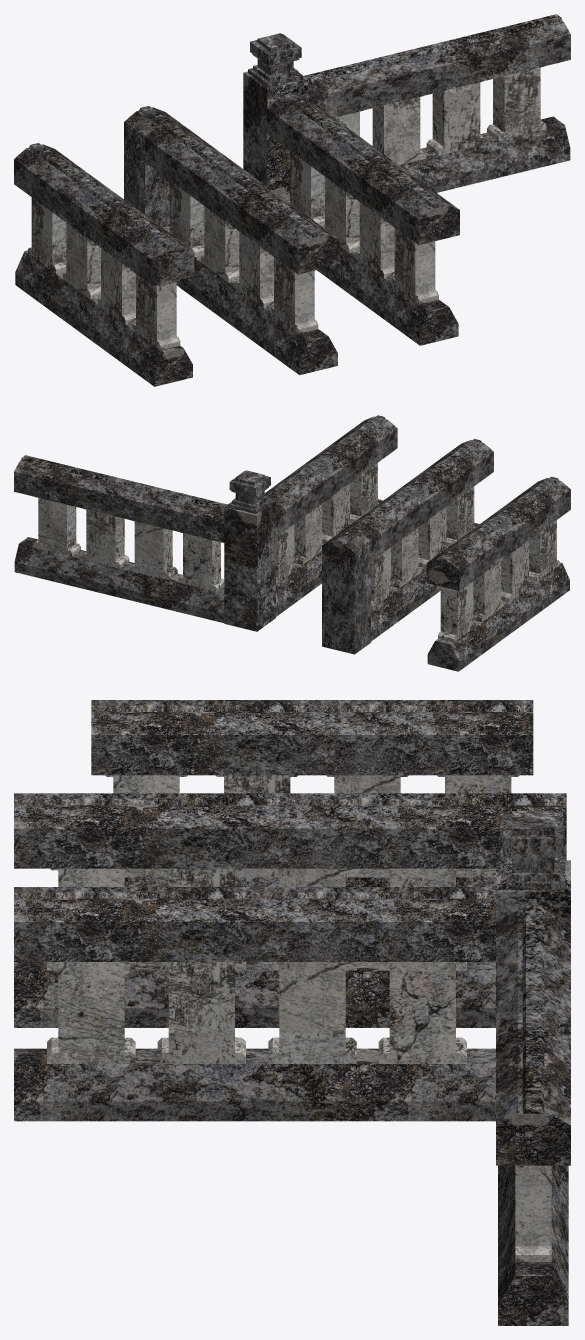
The model's file is lan can 1.fbx.
3 renders of one model, top to bottom at view 1: azimuth 30°, elevation 25°; view 2: azimuth 150°, elevation 25°; view 3: azimuth 270°, elevation 25°, orthographic. The views are drawn at different scales.
Parts seen in each view (by area): view 1: Cube.063, Cube.049, Cube.064, Cube.058, Cube.054, Cube.055, Cube.051, Cube.059, Cube.053, Cube.060, Cube.048, Cube.062 (+6 smaller); view 2: Cube.064, Cube.060, Cube.063, Cube.062, Cube.054, Cube.055, Cube.050, Cube.049, Cube.058, Cube.051, Cube.059, Cube.053 (+6 smaller); view 3: Cube.049, Cube.058, Cube.056, Cube.059, Cube.054, Cube.063, Cube.048, Cube.062, Cube.052, Cube.060, Cube.055, Cube.051 (+6 smaller).
Boxes of the visible parts, x1,y1,x2,y2 form: Cube.063: [308, 21, 570, 117]; Cube.049: [145, 122, 339, 274]; Cube.064: [334, 66, 546, 165]; Cube.058: [267, 94, 459, 244]; Cube.054: [14, 144, 194, 285]; Cube.055: [28, 197, 180, 350]; Cube.051: [167, 181, 318, 333]; Cube.059: [288, 151, 438, 304]; Cube.053: [15, 250, 192, 386]; Cube.060: [243, 33, 307, 198]; Cube.048: [163, 226, 337, 375]; Cube.062: [399, 116, 570, 192]; Cube.064: [33, 497, 224, 591]; Cube.060: [224, 470, 275, 631]; Cube.063: [14, 460, 224, 542]; Cube.062: [14, 537, 224, 622]; Cube.054: [426, 478, 570, 590]; Cube.055: [438, 520, 559, 642]; Cube.050: [322, 529, 371, 654]; Cube.049: [339, 440, 493, 561]; Cube.058: [264, 416, 397, 536]; Cube.051: [371, 486, 475, 608]; Cube.059: [276, 463, 379, 584]; Cube.053: [427, 562, 569, 671]; Cube.049: [14, 805, 500, 868]; Cube.058: [14, 898, 495, 961]; Cube.056: [14, 1048, 495, 1121]; Cube.059: [47, 962, 466, 1063]; Cube.054: [91, 712, 533, 775]; Cube.063: [496, 910, 570, 1165]; Cube.048: [14, 962, 495, 1027]; Cube.062: [498, 1165, 568, 1325]; Cube.052: [14, 793, 566, 805]; Cube.060: [496, 811, 570, 921]; Cube.055: [105, 775, 519, 877]; Cube.051: [47, 868, 466, 970].
Bounding box in the file's own units: 452 × 143 × 252.
2 materials, 2 textured.
